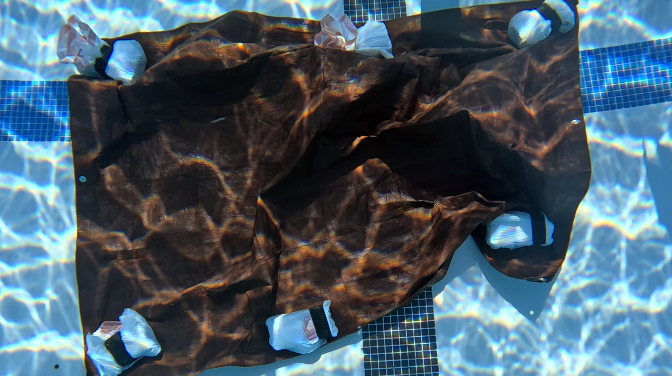sandbag: (55, 0, 590, 375)
